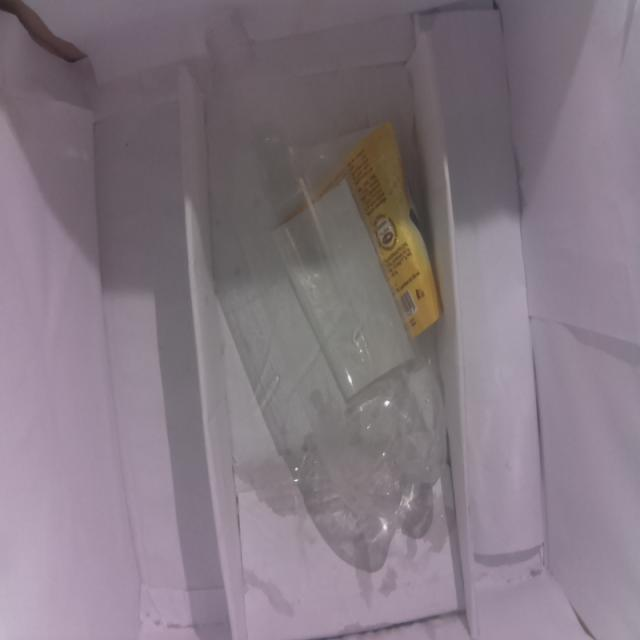Anorganik: (202, 8, 438, 589)
